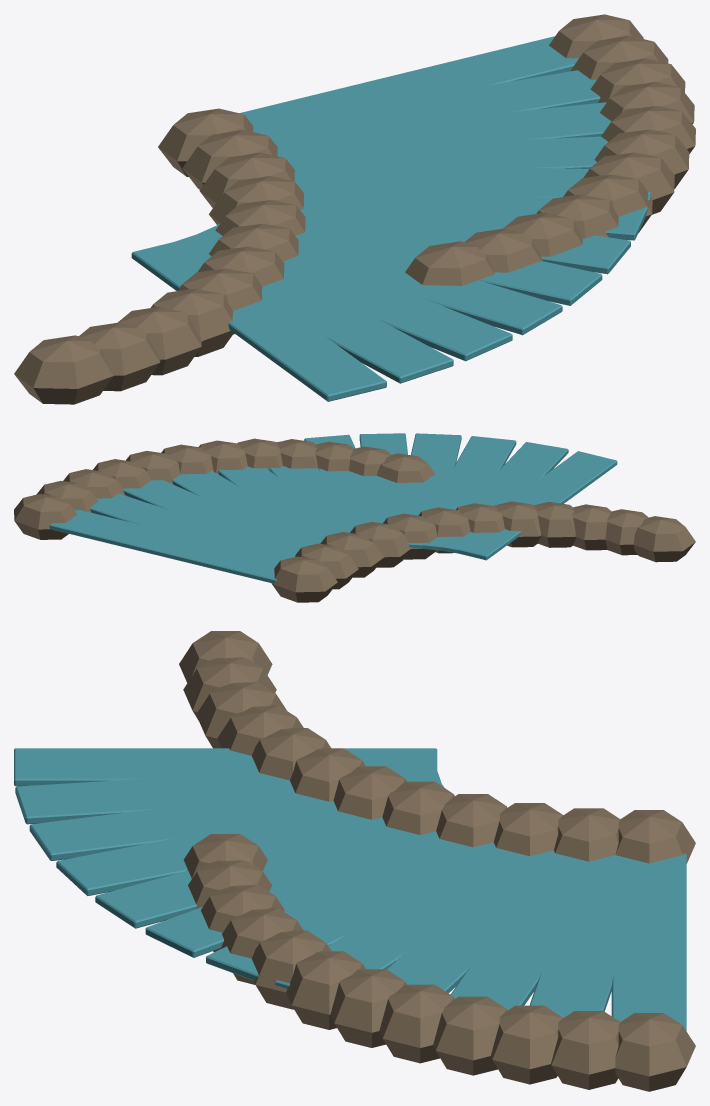
The model's file is landscape-river-curve.lod0.glb.
The picture shows the model from 3 angles, top to bottom: view 1: azimuth 30°, elevation 25°; view 2: azimuth 150°, elevation 25°; view 3: azimuth 270°, elevation 25°; orthographic projection. The views are drawn at different scales.
Parts seen in each view (by area): view 1: landscape-river-curve__body; view 2: landscape-river-curve__body; view 3: landscape-river-curve__body.
Boxes of the visible parts, x1,y1,x2,y2 form: landscape-river-curve__body: (14,14,695,404); landscape-river-curve__body: (14,433,695,602); landscape-river-curve__body: (14,631,695,1091).
Size of the model in its own units: 7.2 by 0.5 by 4.83.
